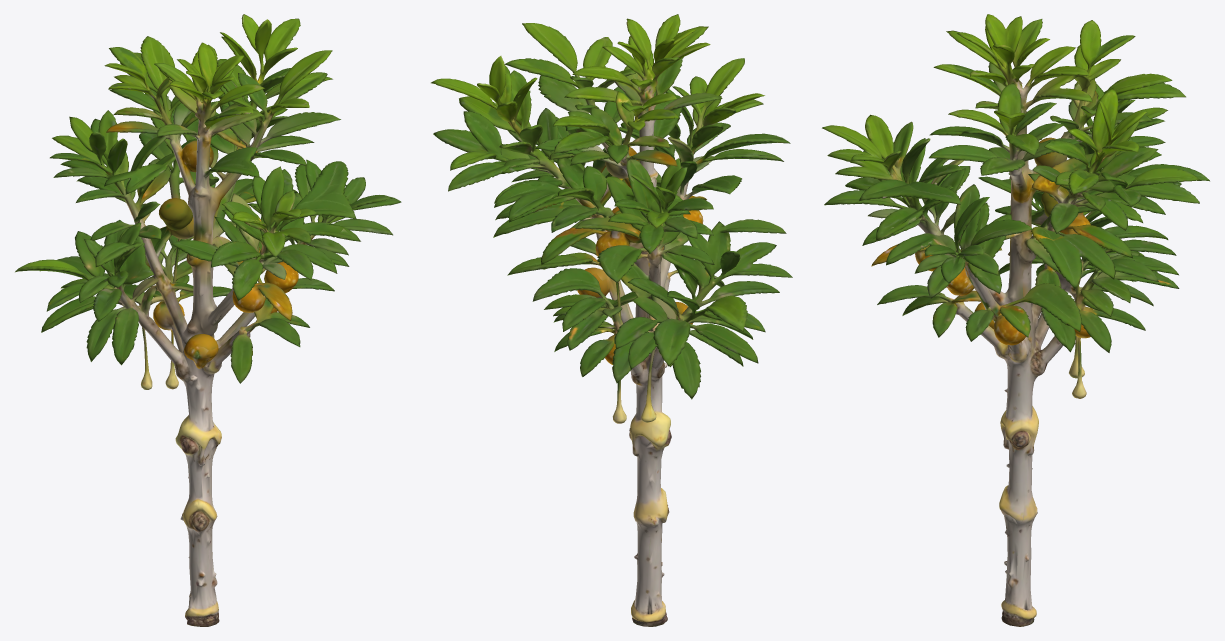
3 renders of one model, left to right at view 1: azimuth 30°, elevation 25°; view 2: azimuth 150°, elevation 25°; view 3: azimuth 270°, elevation 25°, orthographic. The views are drawn at different scales.
Parts seen in each view (by area): view 1: node_0; view 2: node_0; view 3: node_0.
Part boxes in pixels (x1,y1,x2,y2): node_0: (15,14,401,626); node_0: (431,14,792,626); node_0: (822,14,1209,626).
Bounding box in the file's own units: 0.6367 × 1.13 × 0.6735.
Materials: 1 (1 with a texture image).
